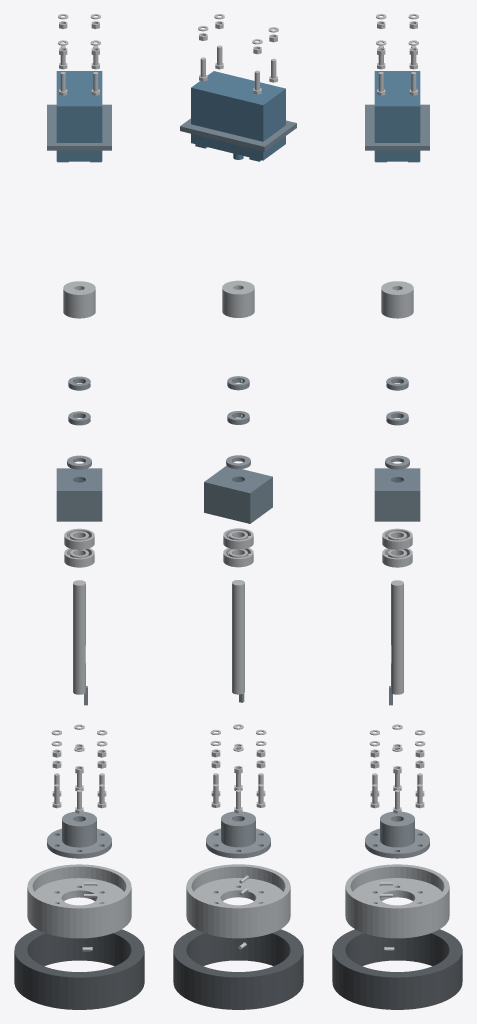
The model's file is A02_roue_eclatee.glb.
3 views of the same model, side by side, from view 1: azimuth 90°, elevation 25°; view 2: azimuth 150°, elevation 25°; view 3: azimuth 270°, elevation 25° (orthographic).
Visible parts, largest first — view 1: R01_pneu, R02_jante, M01_motor_reducteur, R09_support_paliers, R03_moyeu, R06_arbre, M02_platine_moteur, M03_accouplement, R04_6204_interieur, R04_6204_exterieur; view 2: R01_pneu, R02_jante, M01_motor_reducteur, R09_support_paliers, R03_moyeu, R06_arbre, M02_platine_moteur, M03_accouplement, R04_6204_interieur, R04_6204_exterieur; view 3: R01_pneu, R02_jante, M01_motor_reducteur, R09_support_paliers, R03_moyeu, R06_arbre, M02_platine_moteur, M03_accouplement, R04_6204_interieur, R04_6204_exterieur.
Boxes of the visible parts, <box> form: R01_pneu: <box>14,929,144,1009</box>; R02_jante: <box>27,864,131,938</box>; M01_motor_reducteur: <box>56,71,102,162</box>; R09_support_paliers: <box>56,468,102,521</box>; R03_moyeu: <box>47,811,111,858</box>; R06_arbre: <box>73,580,85,694</box>; M02_platine_moteur: <box>47,104,111,150</box>; M03_accouplement: <box>63,281,95,318</box>; R04_6204_interieur: <box>64,528,94,549</box>; R04_6204_exterieur: <box>64,548,94,567</box>; R01_pneu: <box>173,929,303,1009</box>; R02_jante: <box>186,864,290,938</box>; M01_motor_reducteur: <box>191,71,285,161</box>; R09_support_paliers: <box>204,465,272,523</box>; R03_moyeu: <box>206,811,270,858</box>; R06_arbre: <box>232,580,244,694</box>; M02_platine_moteur: <box>180,118,296,151</box>; M03_accouplement: <box>222,280,254,317</box>; R04_6204_interieur: <box>223,528,253,549</box>; R04_6204_exterieur: <box>223,548,253,567</box>; R01_pneu: <box>332,929,462,1009</box>; R02_jante: <box>345,864,449,938</box>; M01_motor_reducteur: <box>374,71,420,162</box>; R09_support_paliers: <box>374,468,420,521</box>; R03_moyeu: <box>365,811,429,858</box>; R06_arbre: <box>391,580,403,694</box>; M02_platine_moteur: <box>365,104,429,150</box>; M03_accouplement: <box>381,281,413,318</box>; R04_6204_interieur: <box>382,528,412,549</box>; R04_6204_exterieur: <box>382,548,412,567</box>.
Bounding box in the file's own units: 200 × 1616 × 200.
